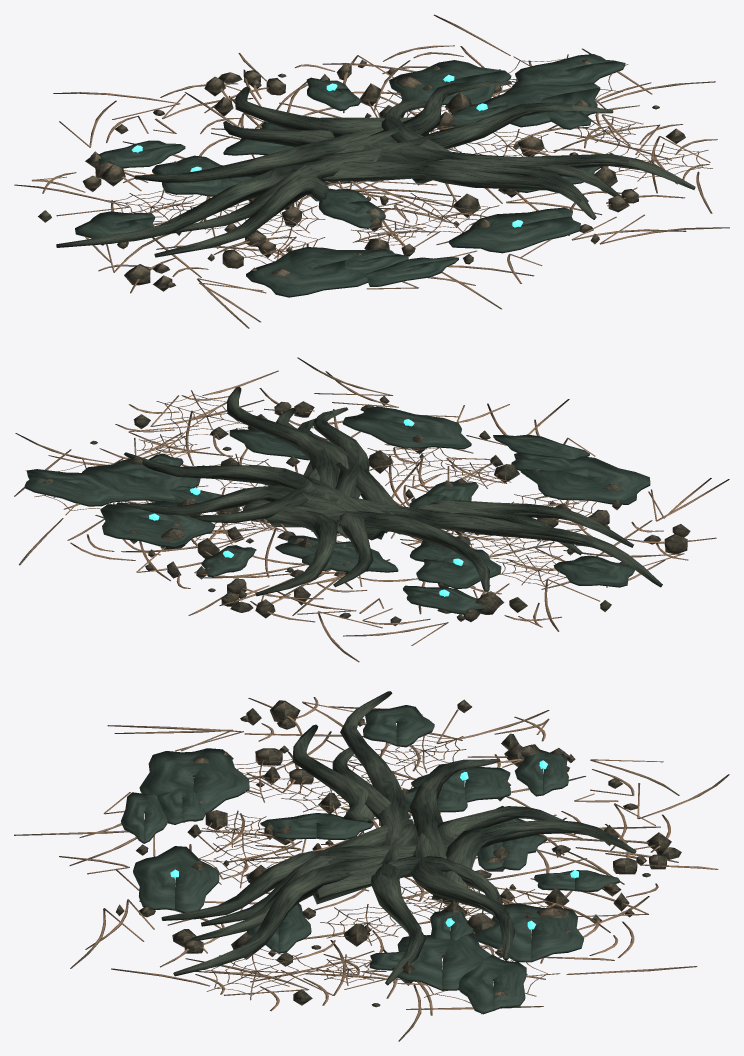
3 renders of one model, top to bottom at view 1: azimuth 30°, elevation 25°; view 2: azimuth 150°, elevation 25°; view 3: azimuth 270°, elevation 25°, orthographic. The views are drawn at different scales.
Visible parts, largest first — view 1: mat_lod1_damp_root, mat_lod1_nutrient_film, mat_lod1_sail_rib, mat_lod1_mineral_grain; view 2: mat_lod1_nutrient_film, mat_lod1_damp_root, mat_lod1_sail_rib, mat_lod1_mineral_grain; view 3: mat_lod1_nutrient_film, mat_lod1_damp_root, mat_lod1_sail_rib, mat_lod1_mineral_grain.
Boxes of the visible parts, box(x1,y1,x2,y2) form: mat_lod1_damp_root: box(56, 80, 695, 257); mat_lod1_nutrient_film: box(75, 54, 625, 297); mat_lod1_sail_rib: box(14, 14, 729, 328); mat_lod1_mineral_grain: box(38, 59, 685, 291); mat_lod1_nutrient_film: box(24, 406, 650, 614); mat_lod1_damp_root: box(116, 386, 662, 596); mat_lod1_sail_rib: box(14, 357, 729, 662); mat_lod1_mineral_grain: box(42, 395, 690, 626); mat_lod1_nutrient_film: box(121, 705, 619, 1014); mat_lod1_damp_root: box(161, 691, 636, 985); mat_lod1_sail_rib: box(14, 697, 729, 1041); mat_lod1_mineral_grain: box(116, 699, 681, 1007).
Size of the model in its own units: 5.22 by 0.2956 by 4.53.
Materials: 5 (4 with a texture image).
